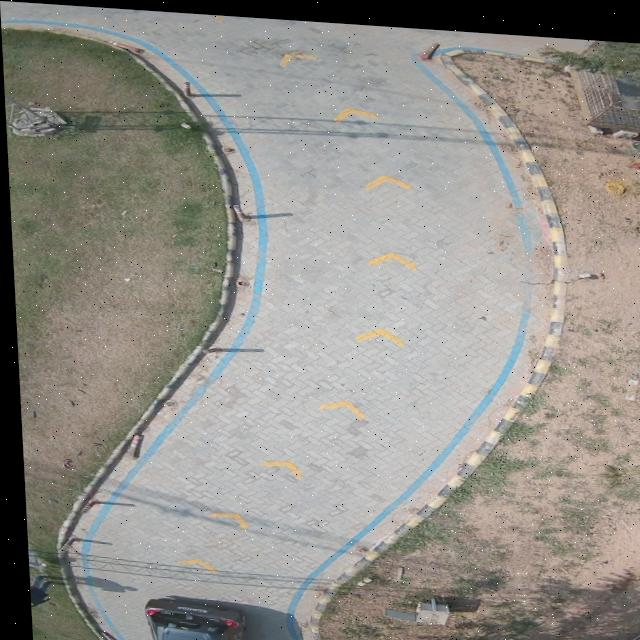car: (138, 595, 238, 640)
